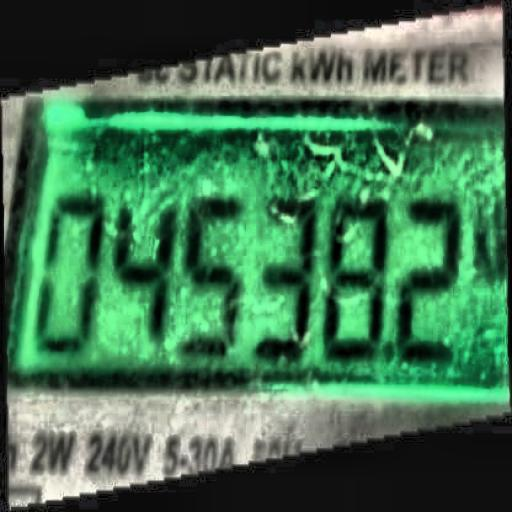DISPLAY_REGION: (19, 99, 512, 407)
SERIAL_REGION: (26, 190, 493, 365)
